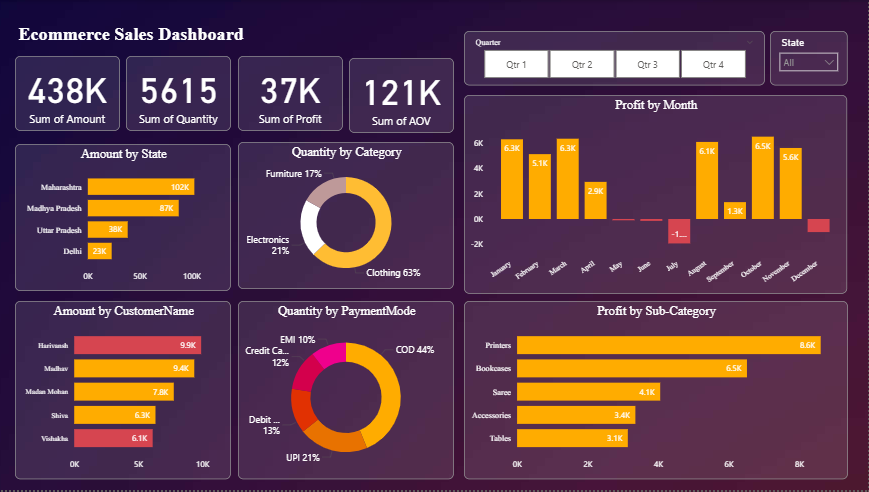

This screenshot's page, from the dashboard's own definition file:
{"tool":"powerbi","page":{"name":"Page 1","canvas":[1280,720],"ordinal":0},"visuals":[{"type":"textbox","box":[27.5,29,395.7,46.4],"z":0},{"type":"columnChart","title":"Profit by Month","fields":{"Category":["Orders.Order Date.Variation.Date Hierarchy.Month"],"Y":["Details.Profit"]},"box":[687.7,140,563.1,292.3],"z":1000},{"type":"barChart","title":"Profit by Sub-Category","fields":{"Category":["Details.Sub-Category"],"Y":["Details.Profit"]},"box":[687.2,442,563.8,262.3],"z":2000},{"type":"donutChart","title":"Quantity by Category","fields":{"Category":["Details.Category"],"Y":["Details.Quantity"]},"box":[355.3,208.7,317.4,215.9],"z":3000},{"type":"donutChart","title":"Quantity by PaymentMode","fields":{"Y":["Details.Quantity"],"Category":["Details.PaymentMode"]},"box":[355.3,442,317.4,262.3],"z":4000},{"type":"card","fields":{"Values":["Details.Amount"]},"box":[27.8,82.6,153.6,110.1],"z":5000},{"type":"card","fields":{"Values":["Details.Quantity"]},"box":[191.6,82.6,153.6,110.1],"z":6000},{"type":"card","fields":{"Values":["Details.Profit"]},"box":[355.3,82.6,153.6,110.1],"z":7000},{"type":"card","fields":{"Values":["Details.AOV"]},"box":[518.8,85.5,153.6,110.1],"z":8000},{"type":"barChart","title":"Amount by State","fields":{"Y":["Details.Amount"],"Category":["Orders.State"]},"box":[27.5,211.6,317.4,215.9],"z":9000},{"type":"barChart","title":"Amount by CustomerName","fields":{"Category":["Orders.CustomerName"],"Y":["Details.Amount"]},"box":[27.8,442,317.4,262.3],"z":10000},{"type":"slicer","fields":{"Values":["Orders.Order Date.Variation.Date Hierarchy.Quarter"]},"box":[687.7,46.2,441.5,80],"z":11000},{"type":"slicer","fields":{"Values":["Orders.State"]},"box":[1136.9,46.2,113.8,80],"z":12000}]}

Visuals, with their boxes in screenshot pixels (x1, y1, x2, y2), scaled from the page's 1280x720 canvas onto the 869x492 screenshot:
textbox: (19,20,287,52)
"Profit by Month" columnChart: (467,96,849,295)
"Profit by Sub-Category" barChart: (467,302,849,481)
"Quantity by Category" donutChart: (241,143,457,290)
"Quantity by PaymentMode" donutChart: (241,302,457,481)
card - Details.Amount: (19,56,123,132)
card - Details.Quantity: (130,56,234,132)
card - Details.Profit: (241,56,345,132)
card - Details.AOV: (352,58,456,134)
"Amount by State" barChart: (19,145,234,292)
"Amount by CustomerName" barChart: (19,302,234,481)
slicer - Orders.Order Date.Variation.Date Hierarchy.Quarter: (467,32,767,86)
slicer - Orders.State: (772,32,849,86)
